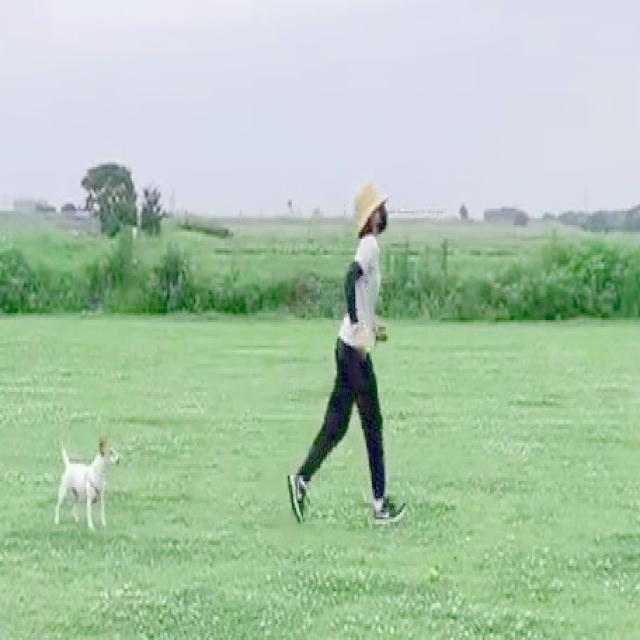Unleashed_Dog: (54, 434, 383, 528)
